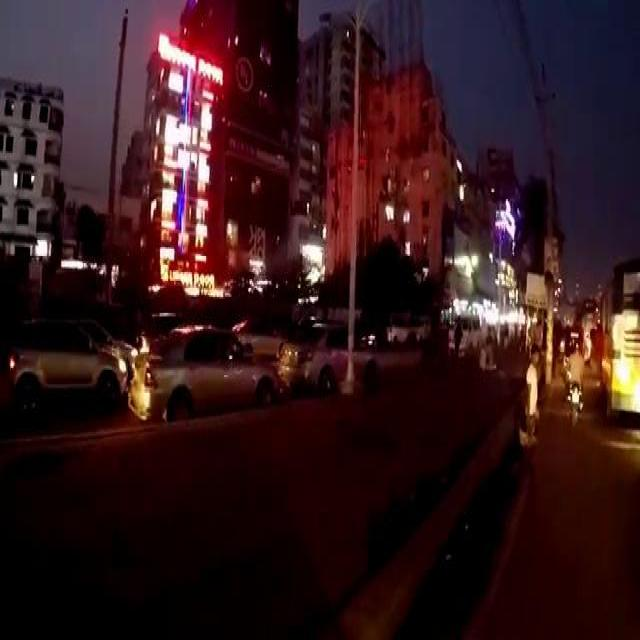bus: (598, 254, 638, 411), (574, 292, 600, 358)
car: (128, 323, 278, 417), (6, 315, 126, 407), (274, 318, 376, 393), (88, 314, 134, 378), (234, 315, 288, 353)
motorbike: (564, 374, 584, 431)
